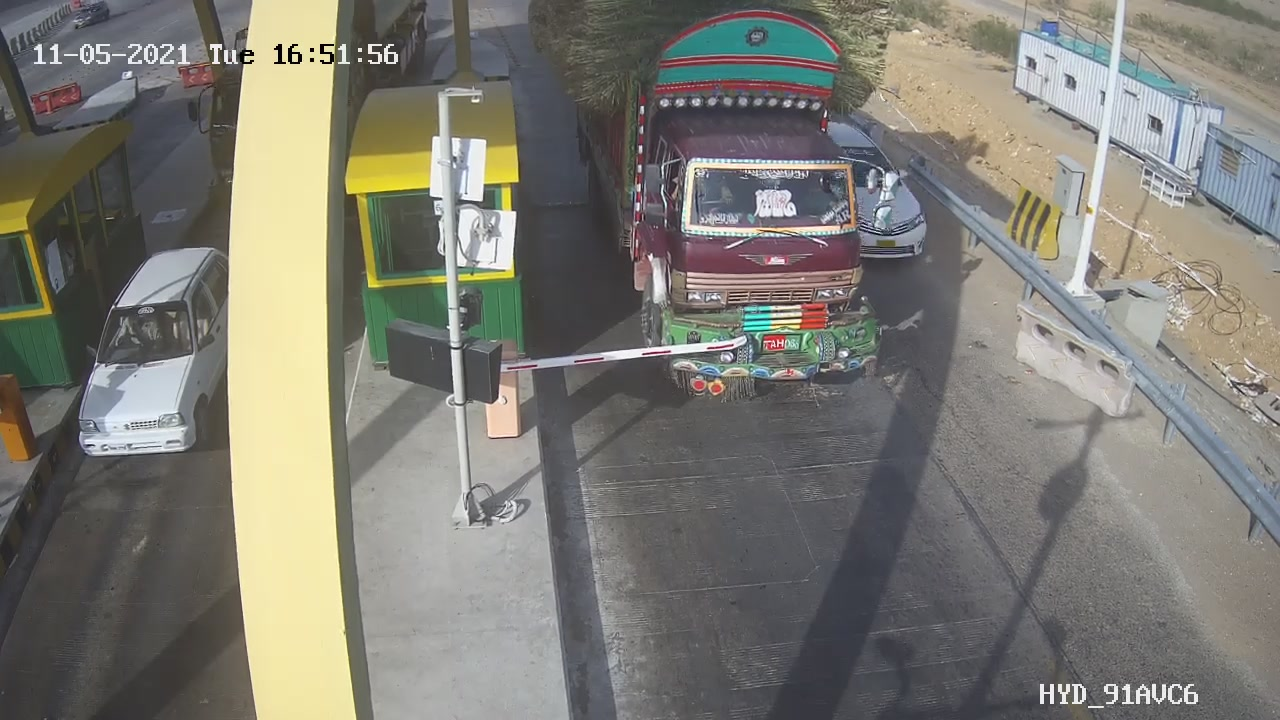F5: (551, 1, 916, 421)
